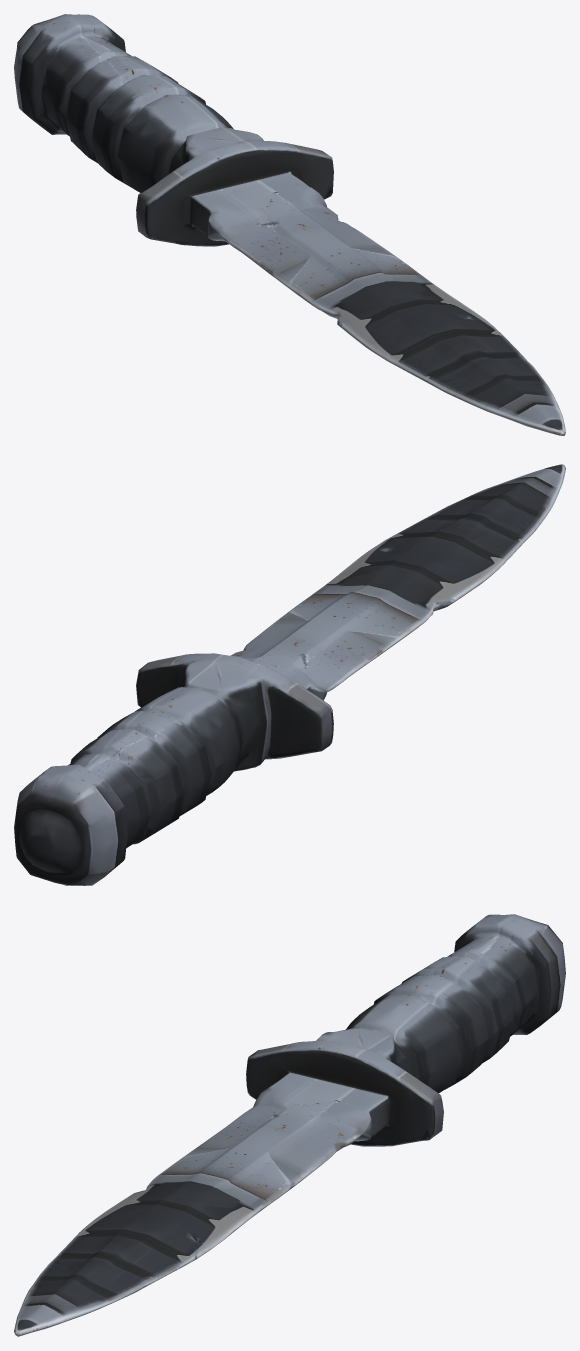
The model's file is Faca_daniel.glb.
3 views of the same model, one above another, from view 1: azimuth 30°, elevation 25°; view 2: azimuth 150°, elevation 25°; view 3: azimuth 330°, elevation 25° (orthographic).
Visible parts, largest first — view 1: tripo_node_2b6d7d94-04bf-4457-87a4-756f12b6af08; view 2: tripo_node_2b6d7d94-04bf-4457-87a4-756f12b6af08; view 3: tripo_node_2b6d7d94-04bf-4457-87a4-756f12b6af08.
Part boxes in pixels (x1,y1,x2,y2): tripo_node_2b6d7d94-04bf-4457-87a4-756f12b6af08: (14, 14, 565, 435); tripo_node_2b6d7d94-04bf-4457-87a4-756f12b6af08: (14, 464, 565, 885); tripo_node_2b6d7d94-04bf-4457-87a4-756f12b6af08: (14, 914, 565, 1336).
Size of the model in its own units: 0.2074 by 0.1191 by 0.9985.
1 material, 1 textured.
